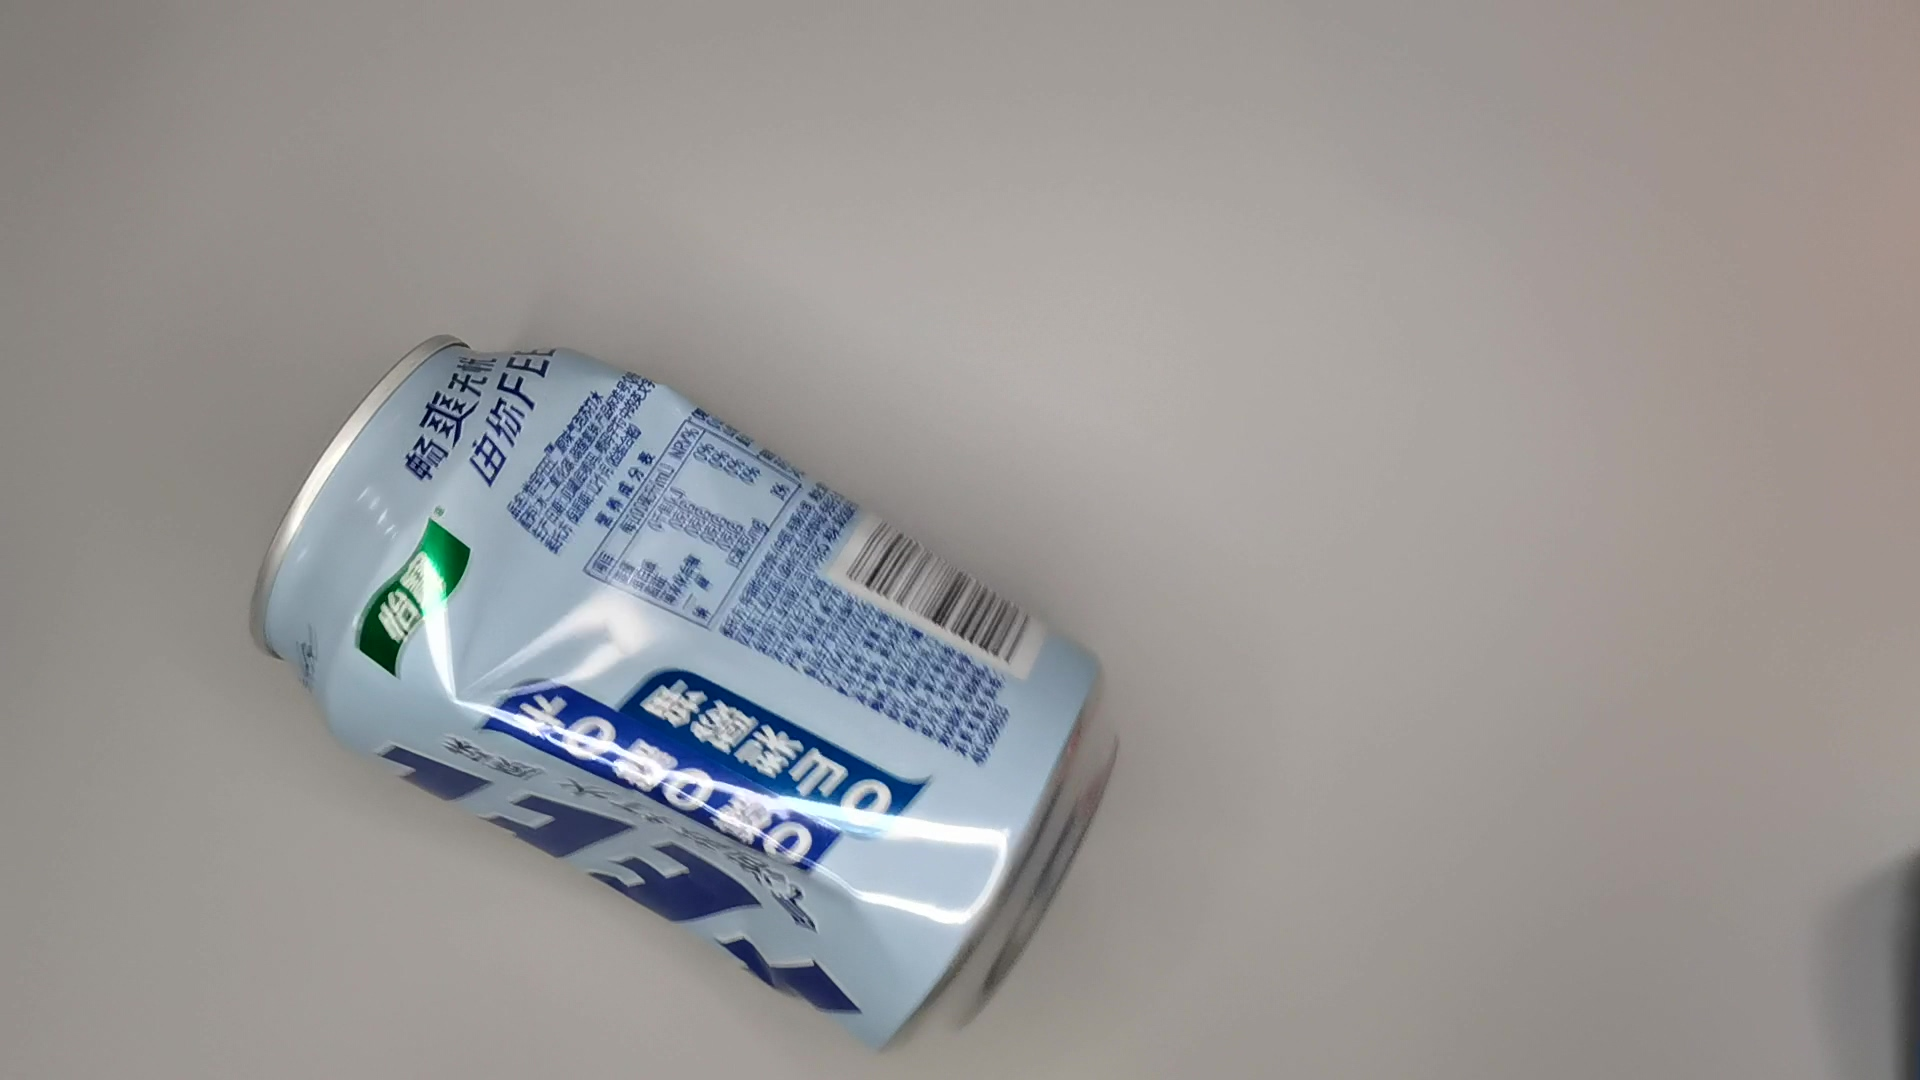can: (240, 323, 1139, 1060)
